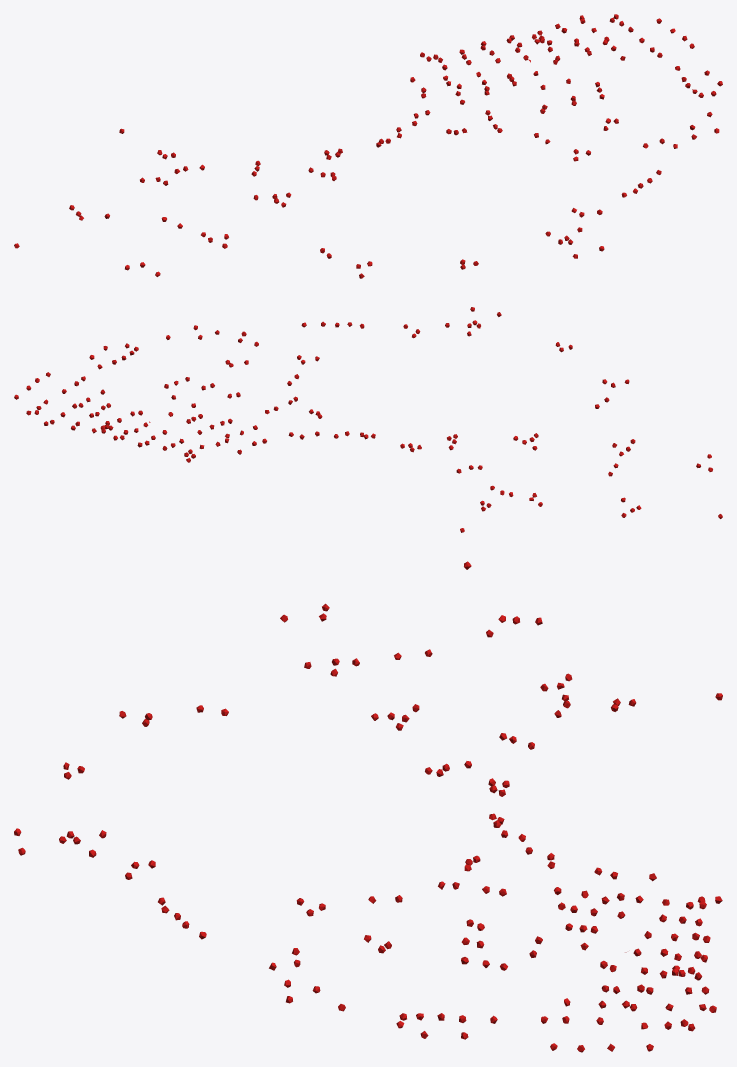
Rendered from ribosome2.glb.
3 views of the same model, one above another, from view 1: azimuth 30°, elevation 25°; view 2: azimuth 150°, elevation 25°; view 3: azimuth 270°, elevation 25° (orthographic). The views are drawn at different scales.
Visible parts, largest first — view 1: Ribosomes.003; view 2: Ribosomes.003; view 3: Ribosomes.003.
Boxes of the visible parts, bbox=[...] form: Ribosomes.003: bbox=[14, 14, 722, 278]; Ribosomes.003: bbox=[14, 307, 722, 532]; Ribosomes.003: bbox=[14, 561, 722, 1052].
Bounding box in the file's own units: 15.06 × 0.2665 × 9.14.
